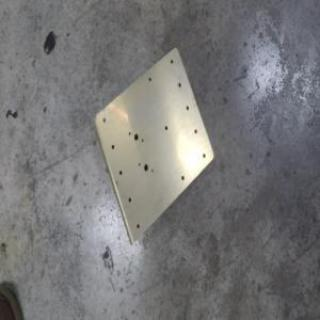MetalSheettrack_idkeyframe: (90, 44, 214, 247)
